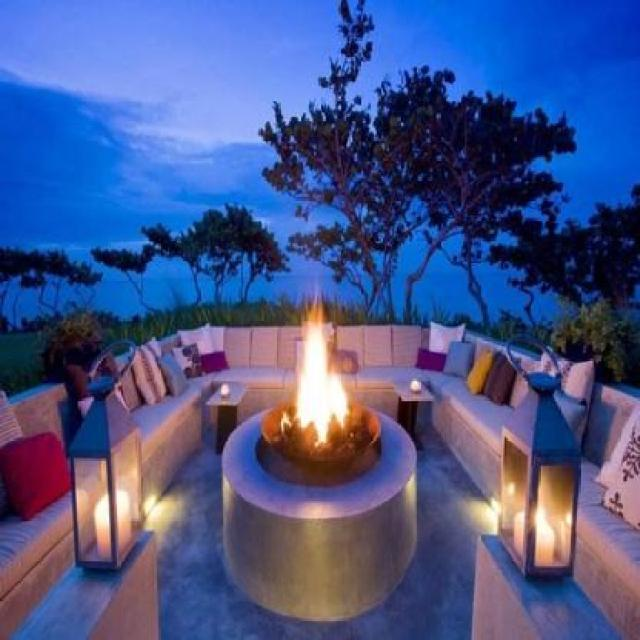Fire: (291, 306, 352, 446)
